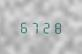eight: (51, 20, 61, 34)
seven: (29, 19, 39, 33)
six: (18, 19, 28, 33)
two: (40, 19, 50, 34)
